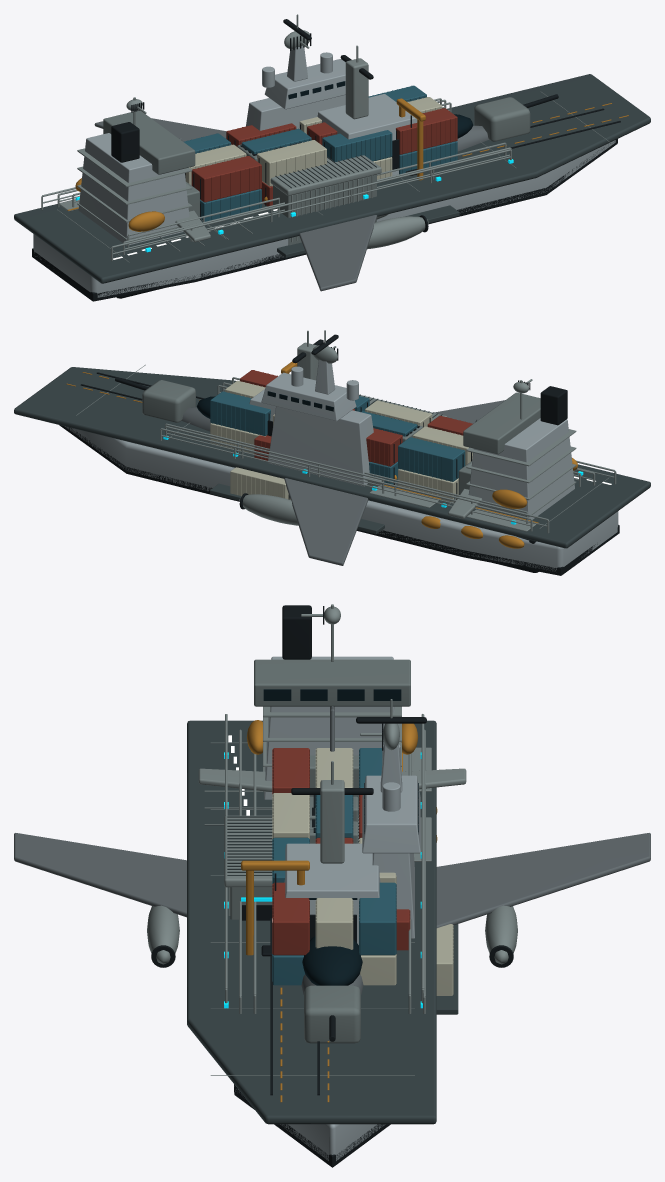
Rendered from convoy-library.glb.
The picture shows the model from 3 angles, top to bottom: view 1: azimuth 30°, elevation 25°; view 2: azimuth 150°, elevation 25°; view 3: azimuth 270°, elevation 25°; orthographic projection. The views are drawn at different scales.
Parts seen in each view (by area): view 1: 斜角飞行甲板, 航母船体, 货船驾驶楼, 后掠主翼, 航母水线, 驾驶楼舰桥, 隐身舰桥主体, 标准集装箱.004, 飞行指挥桥, 仓库金属顶棚, 主炮炮塔, 隐身舰岛 (+26 smaller); view 2: 斜角飞行甲板, 航母船体, 货船驾驶楼, 隐身舰岛, 后掠主翼, 航母水线, 驾驶楼舰桥, 飞行指挥桥, 标准集装箱.008, 标准集装箱.026, 主炮炮塔, 标准集装箱.002 (+27 smaller); view 3: 斜角飞行甲板, 后掠主翼, 驾驶楼舰桥, 隐身舰桥主体, 货船驾驶楼, 飞行指挥桥, 主炮炮塔, 仓库金属顶棚, 标准集装箱.026, 标准集装箱.022, 机鼻驾驶舱, 航母船体 (+17 smaller).
Part boxes in pixels (bbox=[...]): 斜角飞行甲板: bbox=[14, 74, 650, 283]; 航母船体: bbox=[33, 140, 615, 297]; 货船驾驶楼: bbox=[78, 133, 189, 245]; 后掠主翼: bbox=[94, 118, 377, 291]; 航母水线: bbox=[32, 139, 617, 301]; 驾驶楼舰桥: bbox=[103, 110, 195, 174]; 隐身舰桥主体: bbox=[317, 94, 417, 175]; 标准集装箱.004: bbox=[191, 156, 261, 202]; 飞行指挥桥: bbox=[264, 59, 345, 109]; 仓库金属顶棚: bbox=[270, 155, 381, 195]; 主炮炮塔: bbox=[474, 97, 530, 141]; 隐身舰岛: bbox=[246, 95, 345, 130]; 斜角飞行甲板: bbox=[14, 367, 650, 548]; 航母船体: bbox=[65, 426, 618, 571]; 货船驾驶楼: bbox=[468, 418, 574, 520]; 隐身舰岛: bbox=[268, 406, 373, 486]; 后掠主翼: bbox=[284, 400, 505, 565]; 航母水线: bbox=[59, 425, 619, 575]; 驾驶楼舰桥: bbox=[463, 392, 540, 454]; 飞行指挥桥: bbox=[261, 372, 356, 421]; 标准集装箱.008: bbox=[398, 437, 465, 481]; 标准集装箱.026: bbox=[210, 391, 270, 435]; 主炮炮塔: bbox=[142, 380, 195, 422]; 标准集装箱.002: bbox=[230, 467, 290, 499]; 斜角飞行甲板: bbox=[187, 720, 436, 1124]; 后掠主翼: bbox=[14, 833, 650, 927]; 驾驶楼舰桥: bbox=[254, 659, 410, 706]; 隐身舰桥主体: bbox=[284, 843, 380, 944]; 货船驾驶楼: bbox=[264, 656, 394, 799]; 飞行指挥桥: bbox=[362, 775, 420, 853]; 主炮炮塔: bbox=[304, 985, 360, 1043]; 仓库金属顶棚: bbox=[224, 815, 358, 887]; 标准集装箱.026: bbox=[359, 882, 395, 955]; 标准集装箱.022: bbox=[273, 882, 309, 955]; 机鼻驾驶舱: bbox=[302, 936, 362, 985]; 航母船体: bbox=[234, 1086, 385, 1160].
Bounding box in the file's own units: 23.9 × 7.55 × 16.2.
